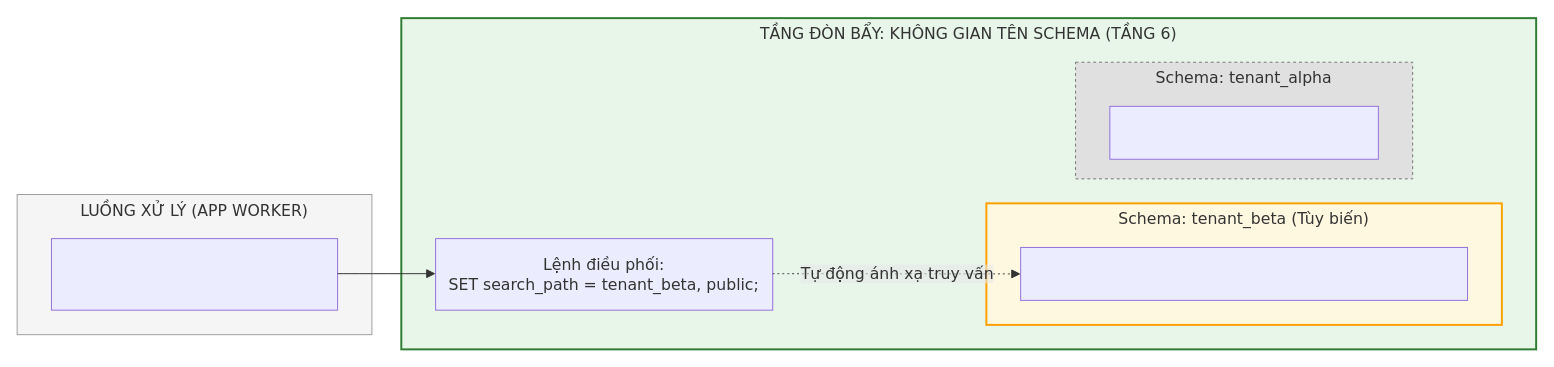
The diagram is 1554 pixels wide and 367 high, and some of its shapes have lost their labels. Here are the shapes that lost their labels. From the top down, the centre of each, then its label:
point (1243, 132): Bảng cards (3 cột tiêu chuẩn)
point (194, 274): Worker Thread (Tenant Context = 'tenant_beta')
point (1244, 273): Bảng cards (3 cột tiêu chuẩn + 2 CỘT TÙY BIẾN RIÊNG)
